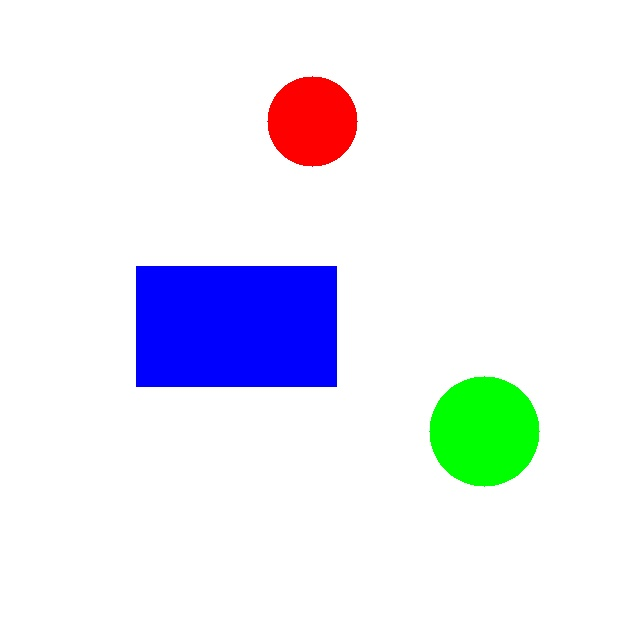cartao: (136, 266, 336, 386)
rosca_externa: (429, 376, 539, 486)
rosca_interna: (267, 76, 357, 166)
